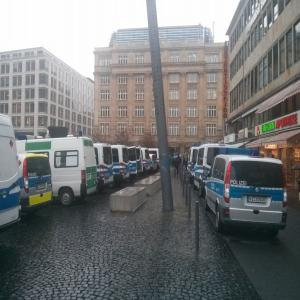Vehicle-registration-plate: (248, 196, 268, 204)
